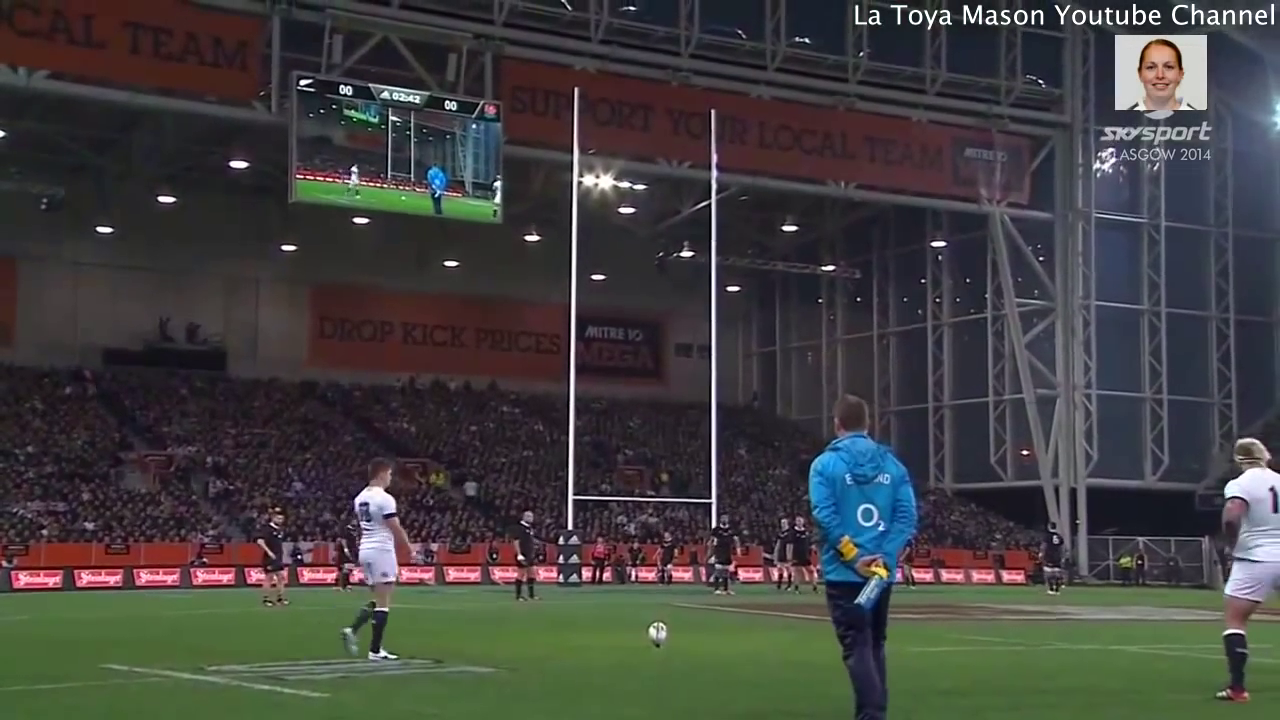ball: (646, 616, 675, 650)
player: (797, 390, 924, 720), (1196, 428, 1280, 720), (329, 446, 417, 666), (502, 506, 552, 606), (251, 504, 295, 610), (782, 510, 829, 599), (705, 510, 746, 604), (648, 526, 690, 594), (1034, 517, 1066, 598), (331, 515, 363, 592), (770, 510, 793, 596), (586, 532, 614, 588), (897, 531, 924, 589), (621, 537, 646, 588)
post: (546, 80, 745, 595)
